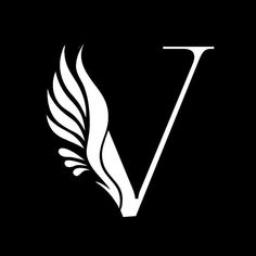v: (34, 22, 242, 234)
